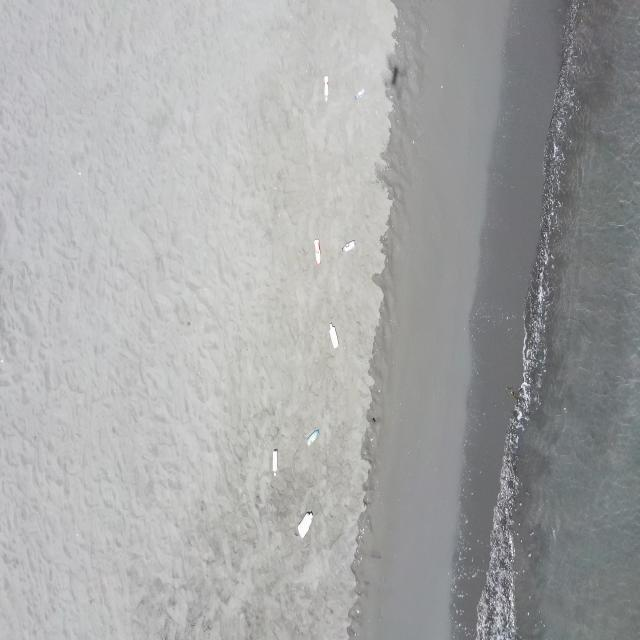plastic-bottle: (298, 511, 316, 539), (270, 448, 280, 478), (306, 428, 320, 448), (328, 322, 338, 349), (340, 240, 358, 253), (315, 238, 323, 266), (323, 77, 331, 104), (353, 87, 367, 101)
